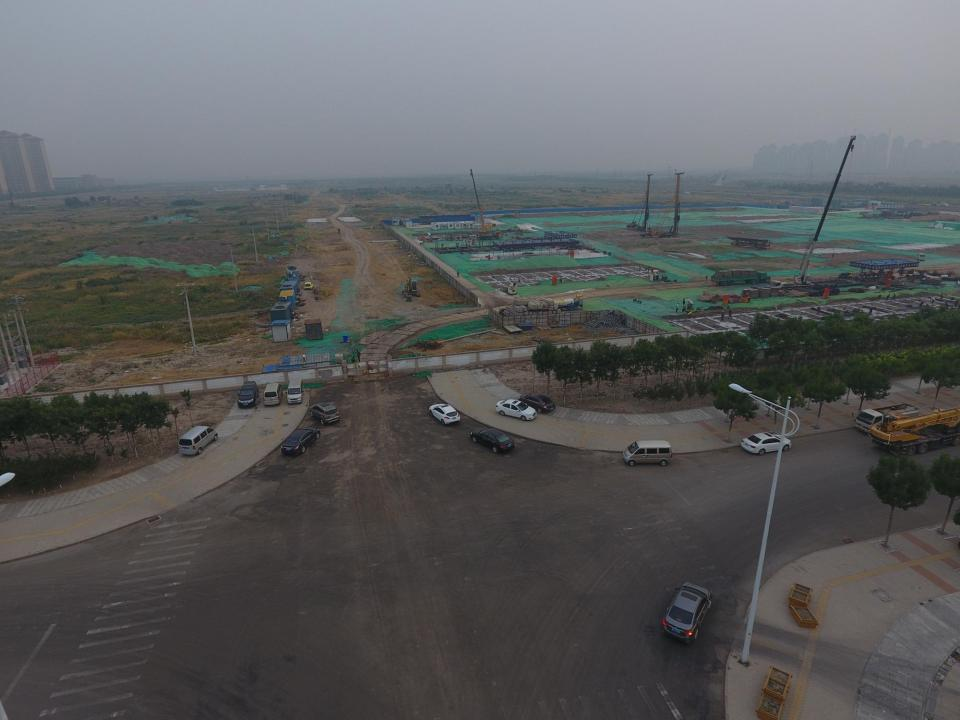car: (661, 581, 712, 644), (741, 432, 791, 455), (280, 427, 321, 455), (471, 428, 515, 453), (496, 400, 536, 420), (309, 402, 340, 426), (518, 394, 556, 413), (428, 403, 460, 425), (237, 381, 259, 409), (304, 282, 313, 290)
truck: (868, 406, 960, 457), (852, 402, 920, 434), (711, 268, 771, 286), (543, 294, 583, 310)
van: (622, 440, 672, 466), (178, 425, 218, 455), (285, 377, 303, 404), (263, 382, 283, 406), (917, 253, 925, 261)
